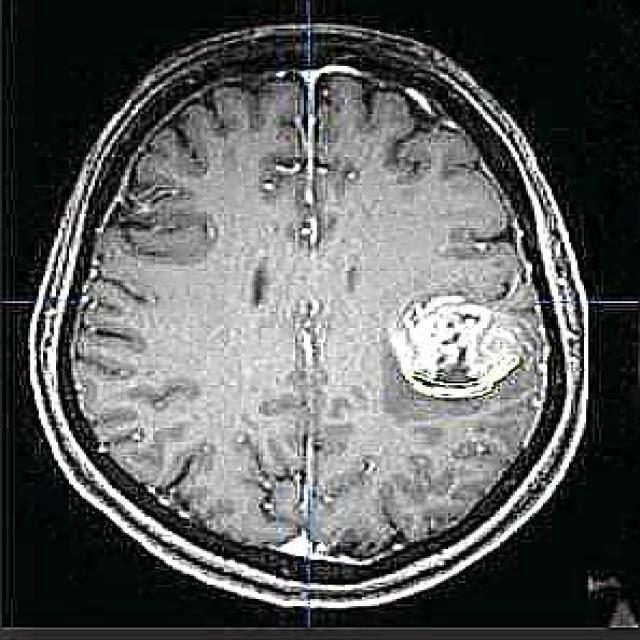Tumor: (393, 288, 527, 397)
